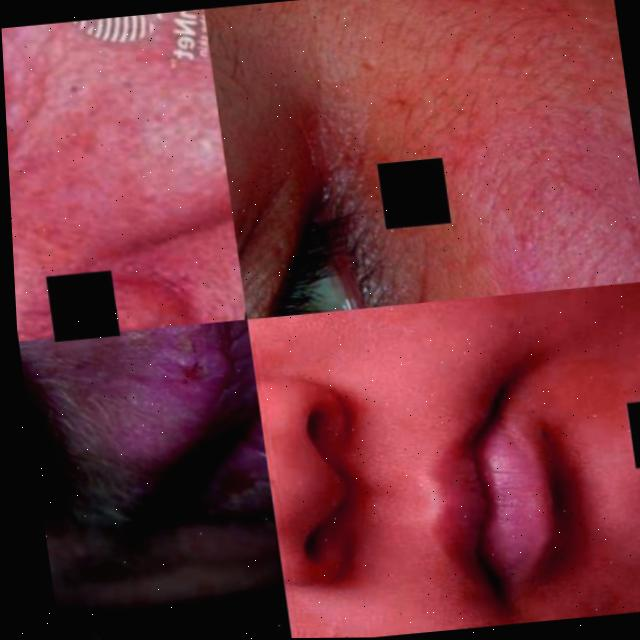lupus-detected: (406, 111, 640, 301), (9, 179, 247, 340), (120, 318, 263, 455), (210, 455, 278, 543)
